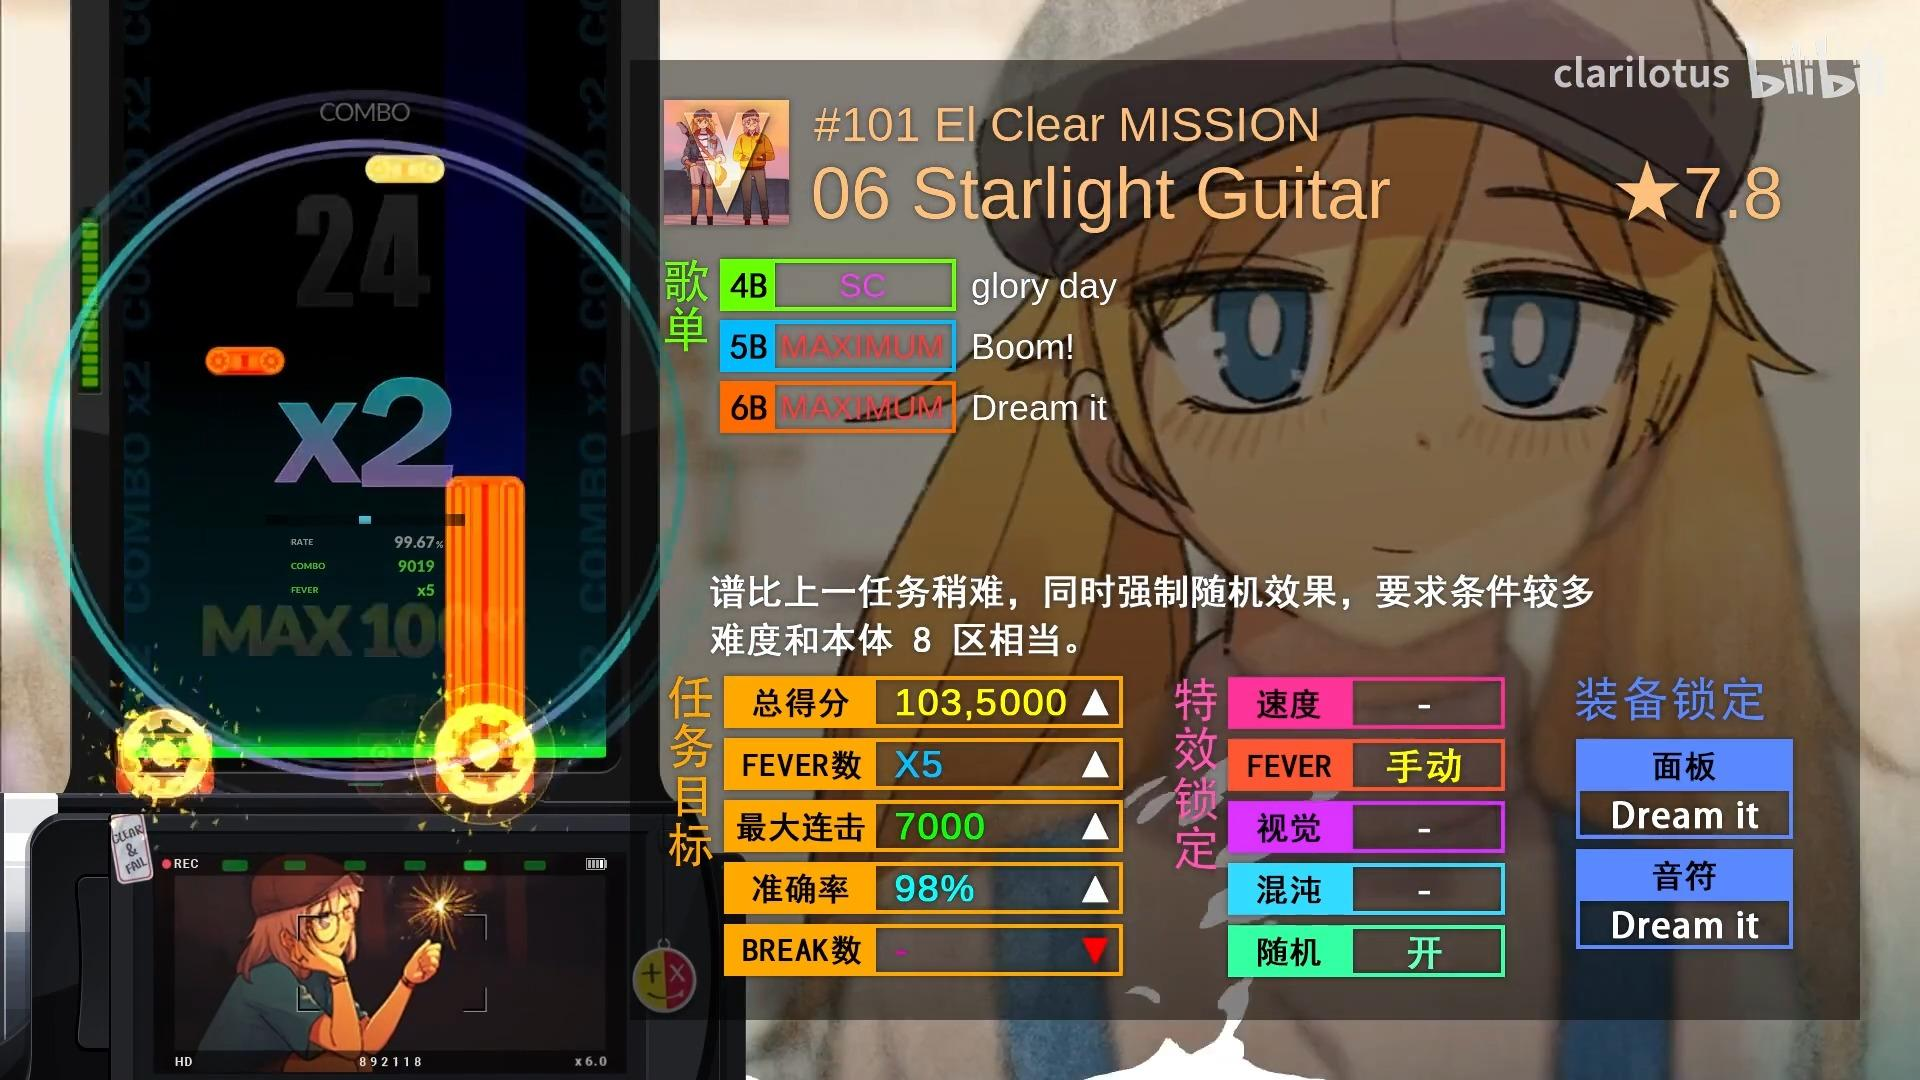hold-end: (446, 476, 525, 504)
note: (365, 154, 446, 185), (204, 347, 285, 376)
